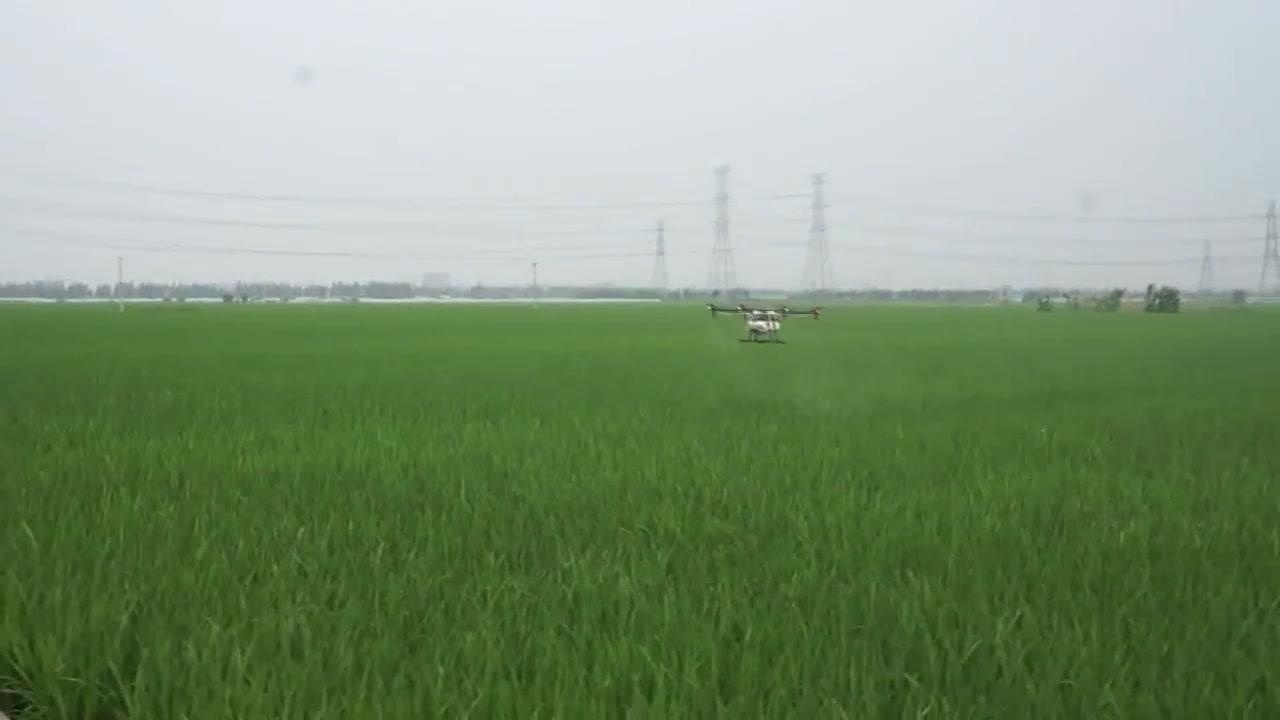UAV: (707, 301, 826, 349)
